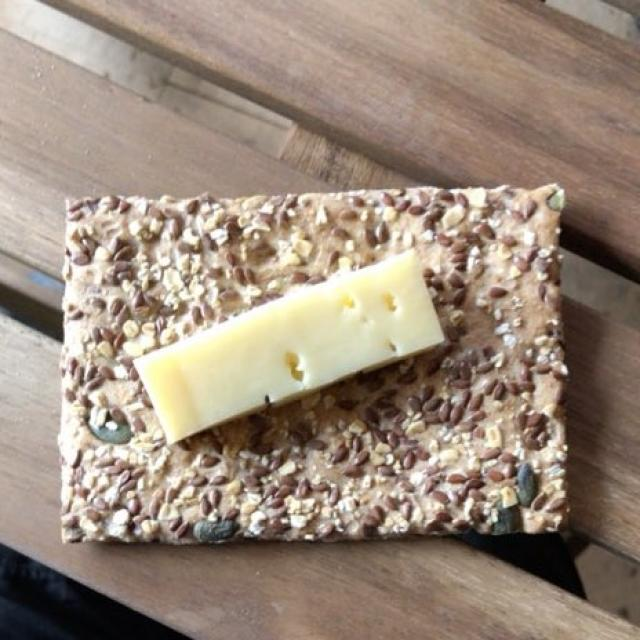semi-hard-cheese: (140, 260, 448, 441)
